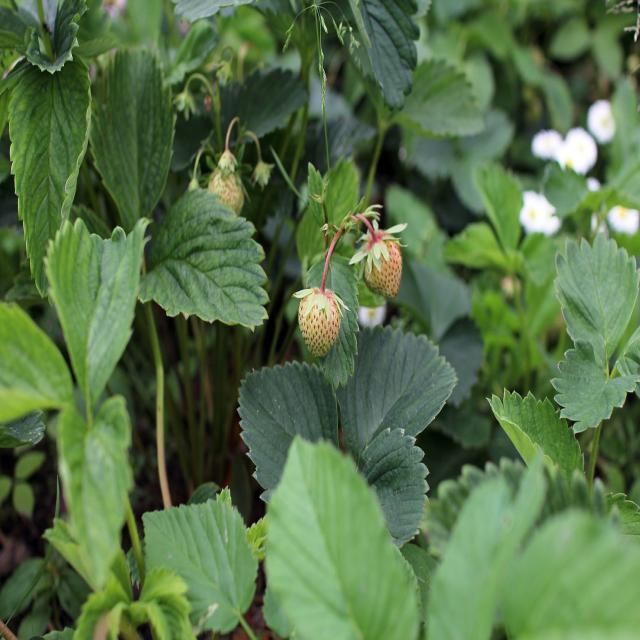immature: (297, 290, 342, 360), (363, 233, 403, 300), (208, 166, 245, 222)
